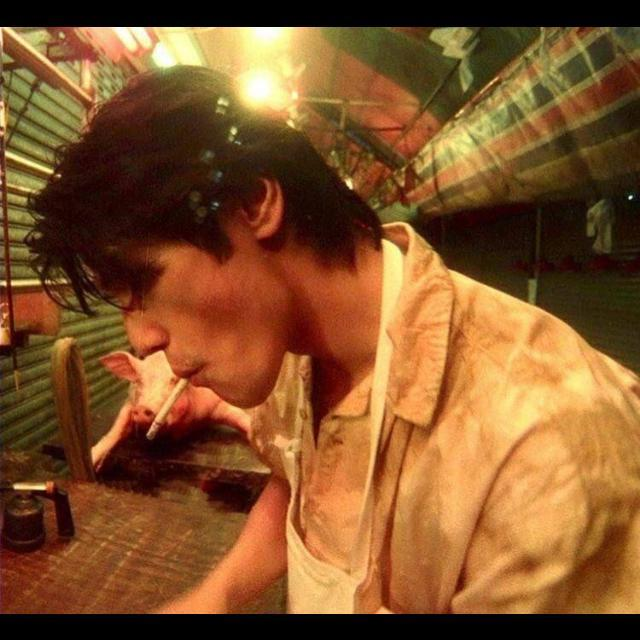rokok: (141, 375, 199, 441)
